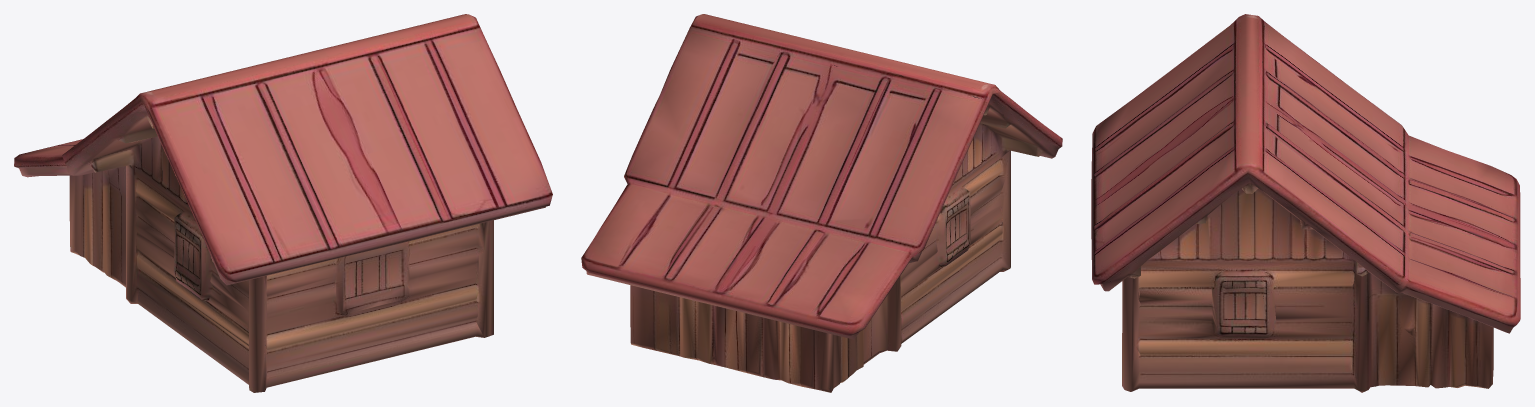
The model's file is demo_cottage_chibi.glb.
3 renders of one model, left to right at view 1: azimuth 30°, elevation 25°; view 2: azimuth 150°, elevation 25°; view 3: azimuth 270°, elevation 25°, orthographic. The views are drawn at different scales.
Visible parts, largest first — view 1: tripo_node_e9a62121-64c0-49d6-a289-b0c6f90d3632.001; view 2: tripo_node_e9a62121-64c0-49d6-a289-b0c6f90d3632.001; view 3: tripo_node_e9a62121-64c0-49d6-a289-b0c6f90d3632.001.
Boxes of the visible parts, x1=… form: tripo_node_e9a62121-64c0-49d6-a289-b0c6f90d3632.001: x1=14, y1=14, x2=552, y2=392; tripo_node_e9a62121-64c0-49d6-a289-b0c6f90d3632.001: x1=581, y1=14, x2=1062, y2=392; tripo_node_e9a62121-64c0-49d6-a289-b0c6f90d3632.001: x1=1091, y1=14, x2=1520, y2=392.
Bounding box in the file's own units: 0.8475 × 0.6409 × 0.9998.
Materials: 1 (1 with a texture image).
